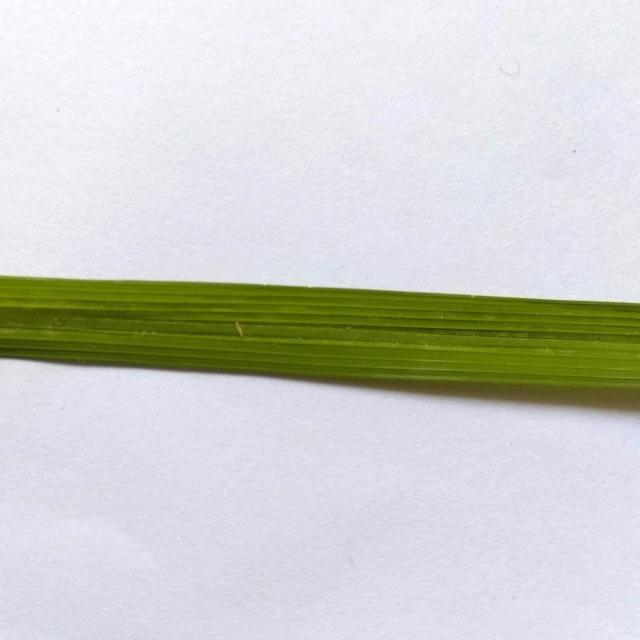healthy: (0, 231, 640, 417)
